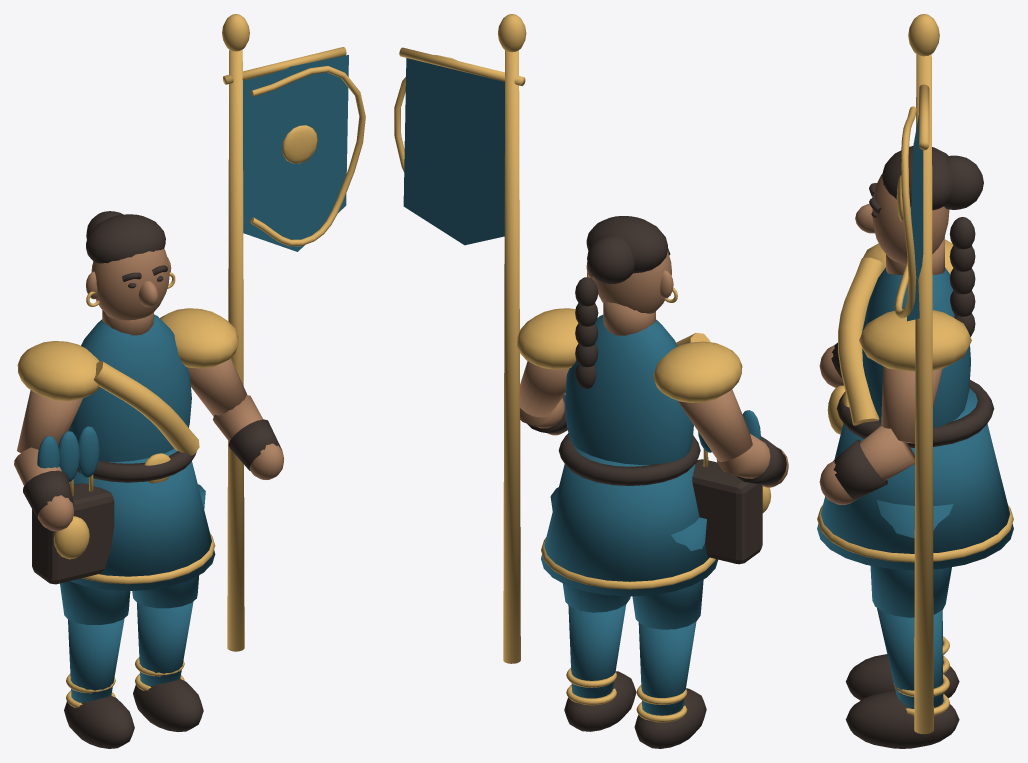
File: healer.glb
The picture shows the model from 3 angles, left to right: view 1: azimuth 30°, elevation 25°; view 2: azimuth 150°, elevation 25°; view 3: azimuth 270°, elevation 25°; orthographic projection. The views are drawn at different scales.
Visible parts, largest first — view 1: healer; view 2: healer; view 3: healer.
Boxes of the visible parts, left/top/right/bottom form: healer: left=14, top=14, right=365, bottom=748; healer: left=394, top=14, right=788, bottom=748; healer: left=817, top=14, right=1013, bottom=748.
Bounding box in the file's own units: 1.09 × 1.99 × 0.46.
